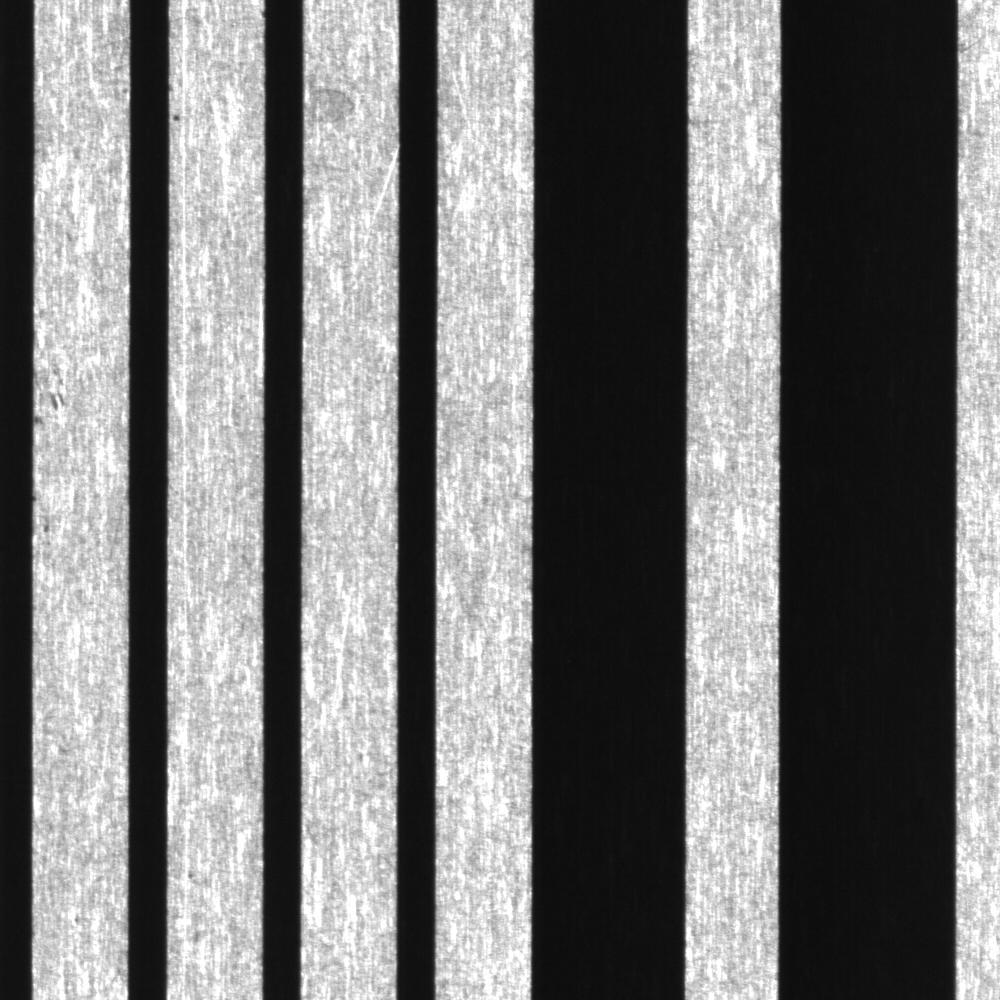Discolor: (304, 73, 365, 135)
Etching: (31, 361, 77, 429), (31, 487, 57, 544)
Pinhole: (168, 99, 187, 137)
Scar: (438, 17, 487, 147)
